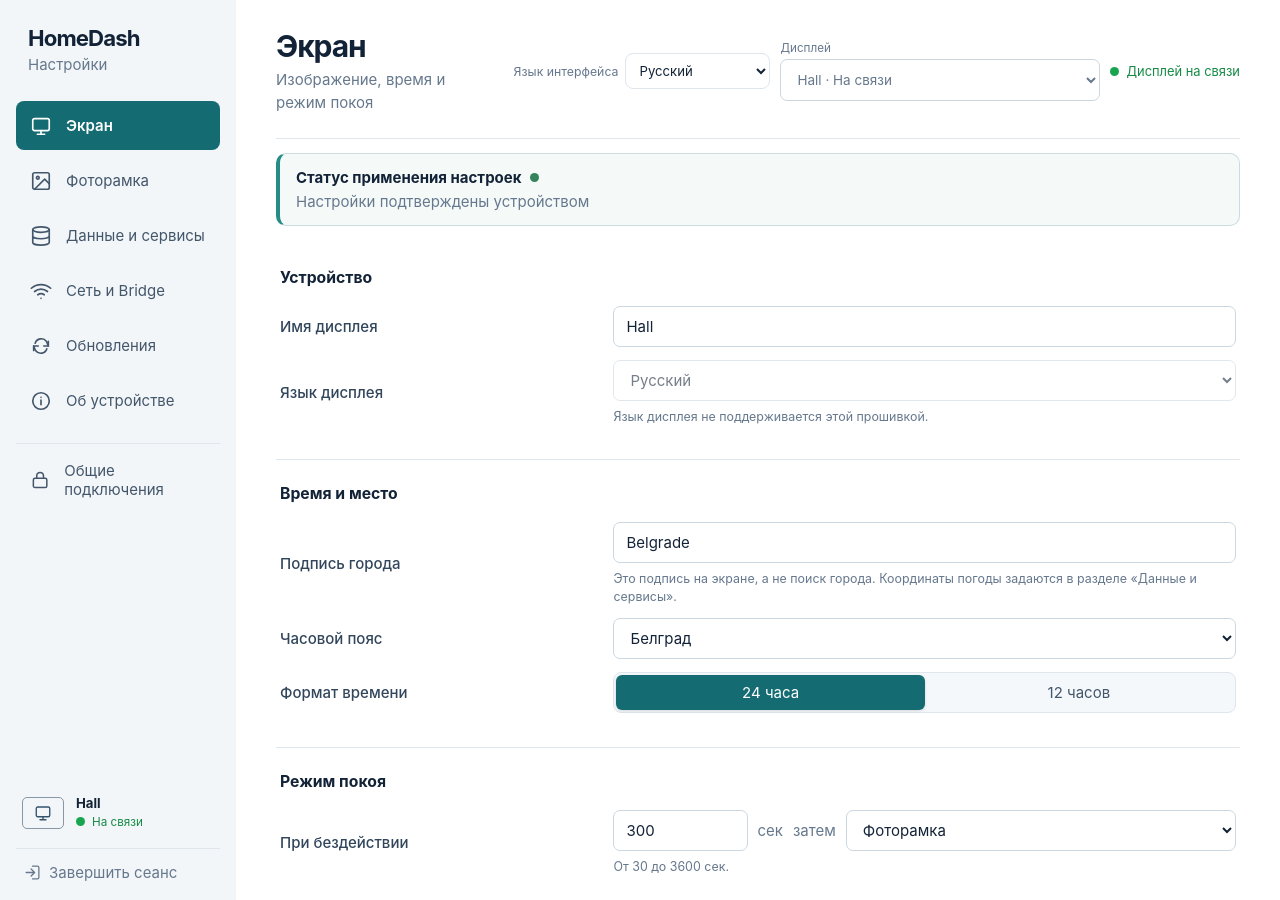
Test case: multi-display shell › keeps the session language switch usable when local storage is blocked
This screenshot has width=1280, height=900.
Expected: the field named "Подпись города" is shown, [614,522,1236,562]
Step 1. Select "Srpski (latinica)" in the dropdown named "Выберите язык интерфейса" → x=698, y=71, box [626,53,770,89]
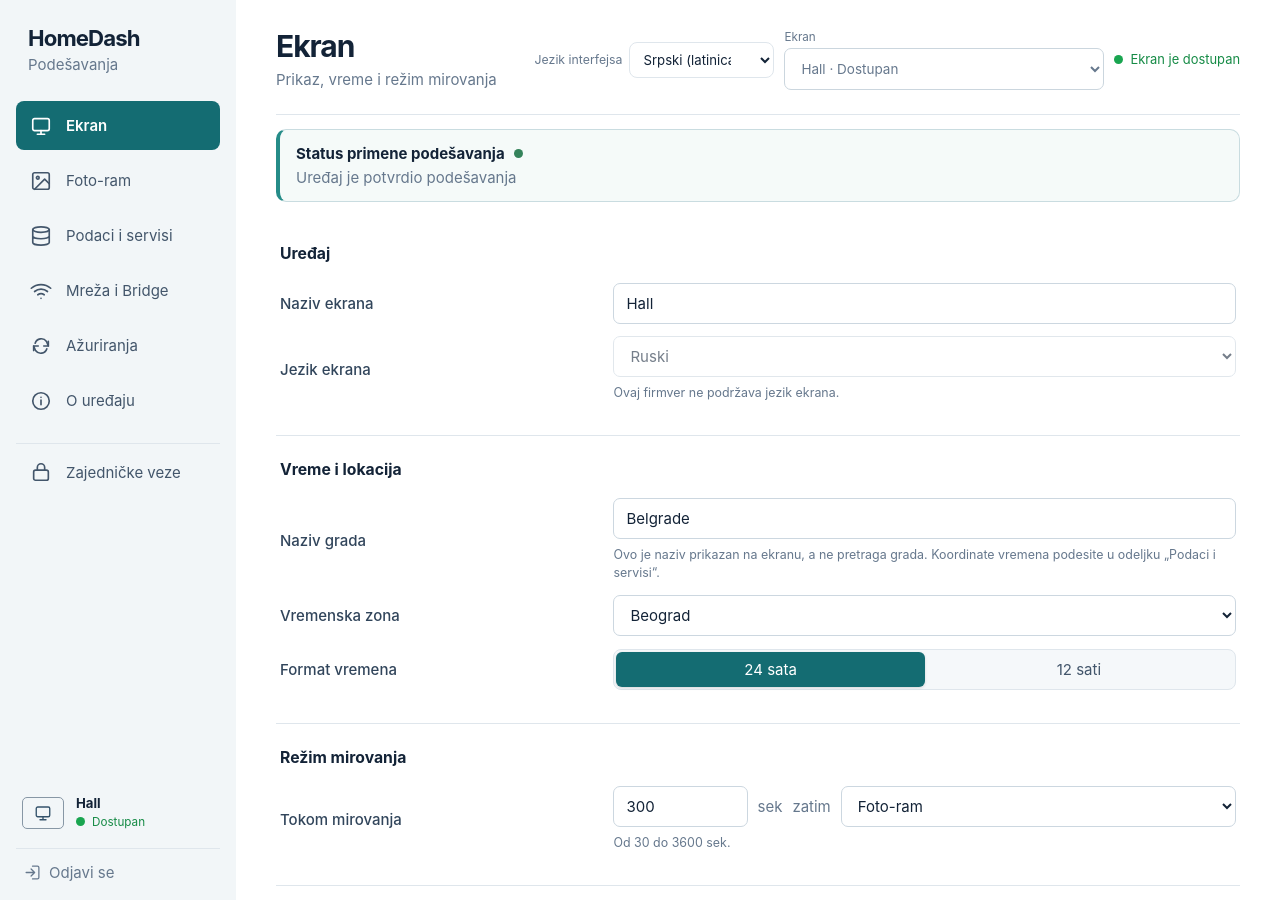
Now the text "Ekran" is shown, box [66,116,107,135]
